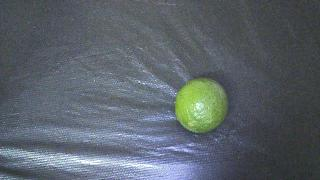LOCAL: (175, 78, 228, 133)
